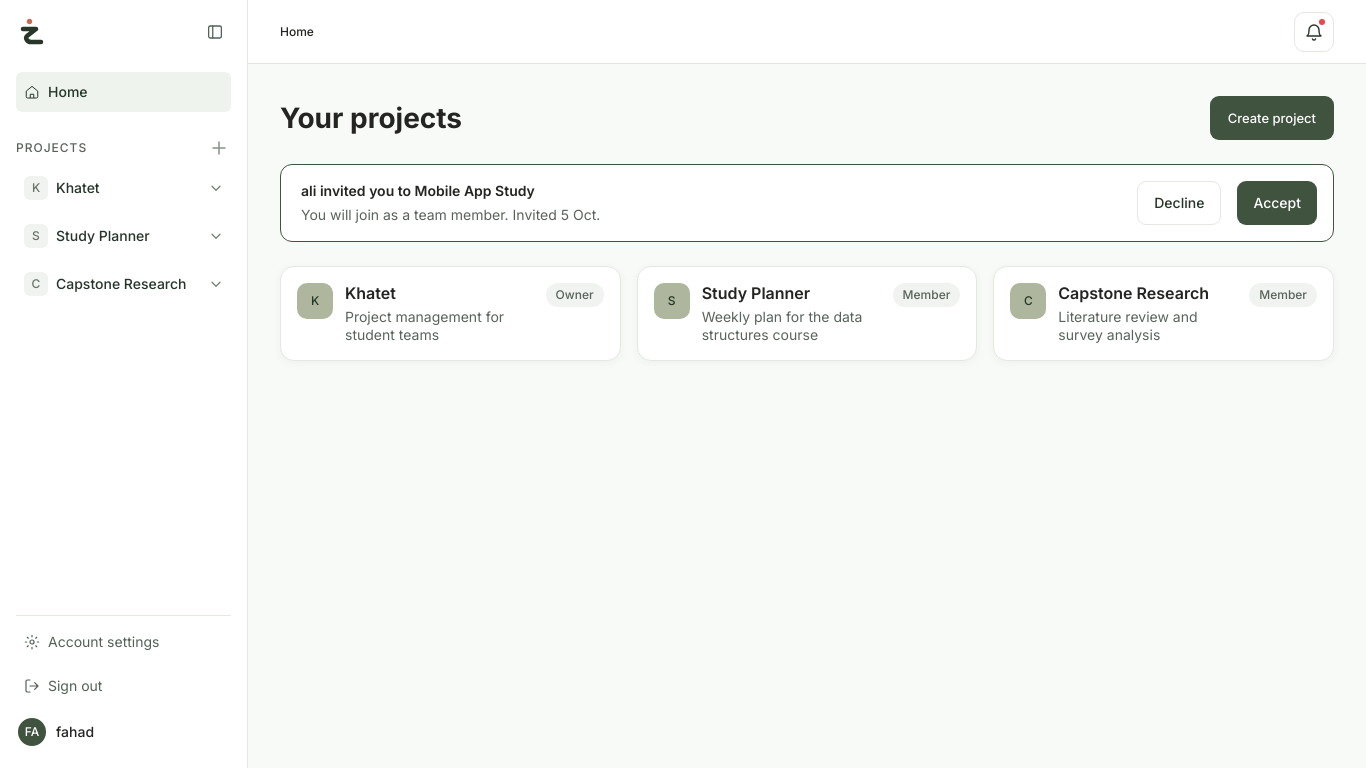
Test: notifications (US-08, US-30) › shows the unread count and accepts an invitation
This screenshot has width=1366, height=768.
Click the button named "Notifications, 2 unread" at [1314, 32], box x1=1294 y1=12 x2=1334 y2=52
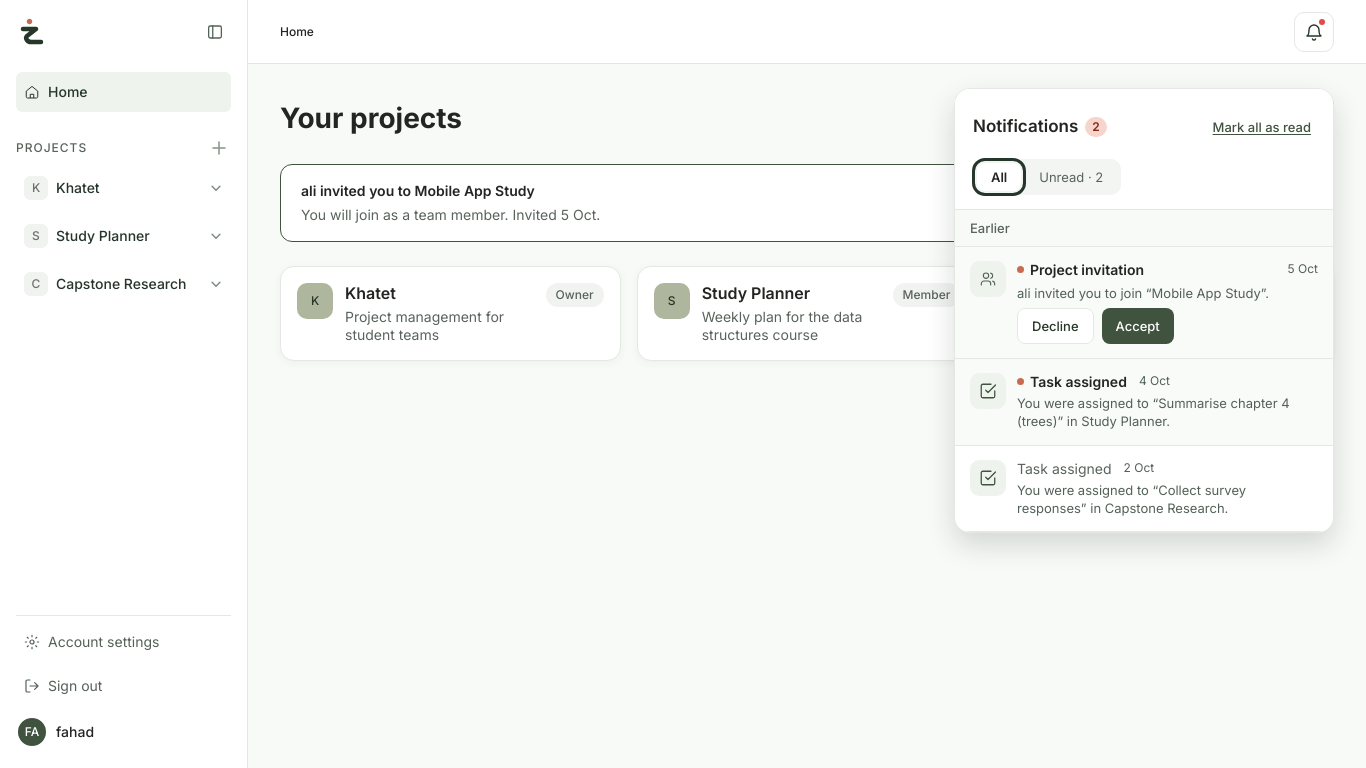
Result: the text "ali invited you to join “Mobile App Study”." is shown at x1=1017 y1=285 x2=1269 y2=301
Result: the heading "Earlier" is shown at x1=955 y1=210 x2=1333 y2=247
Click the button "Accept" at [1138, 326], box x1=1102 y1=308 x2=1174 y2=344
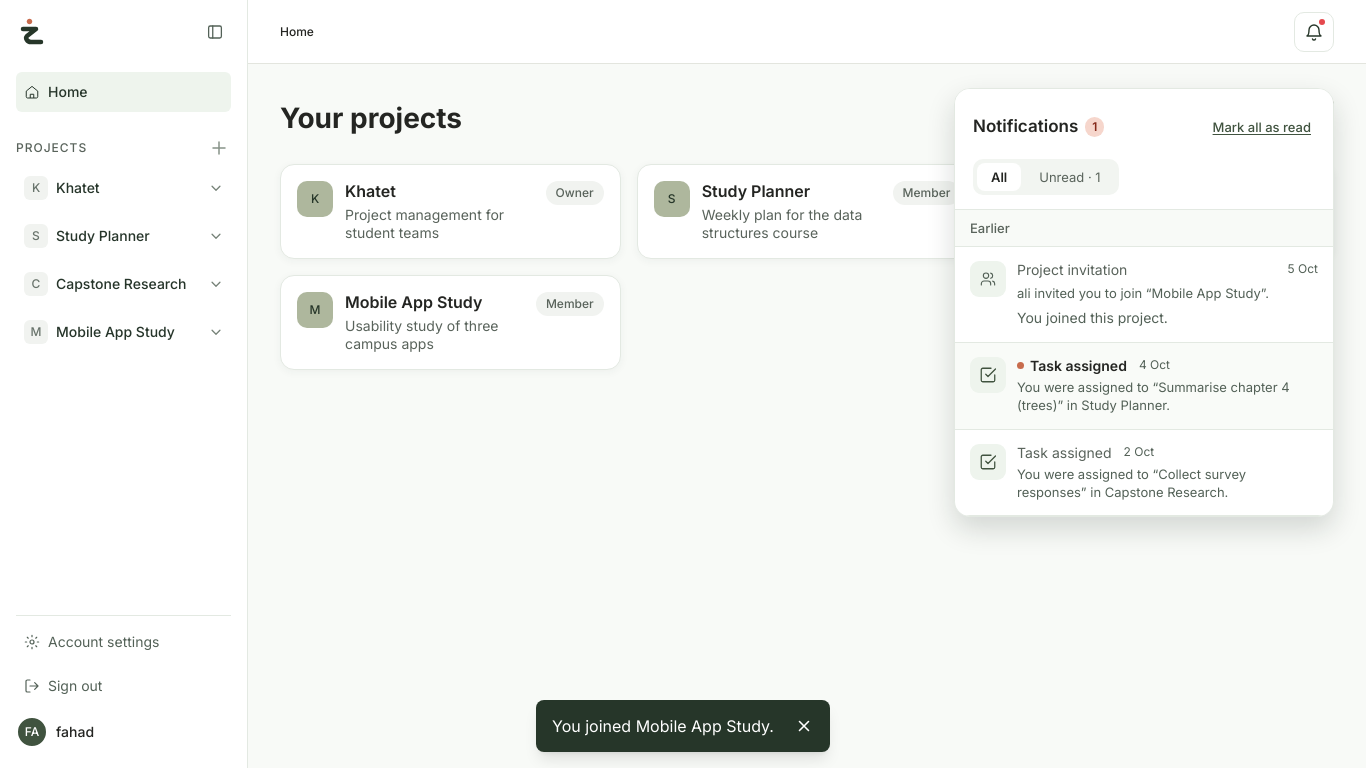
Expected: the button named "Notifications, 1 unread" is shown, x1=1294 y1=12 x2=1334 y2=52
Result: the text "You joined this project." is shown at x1=1017 y1=309 x2=1168 y2=326
Result: the link is shown at x1=280 y1=275 x2=621 y2=370
